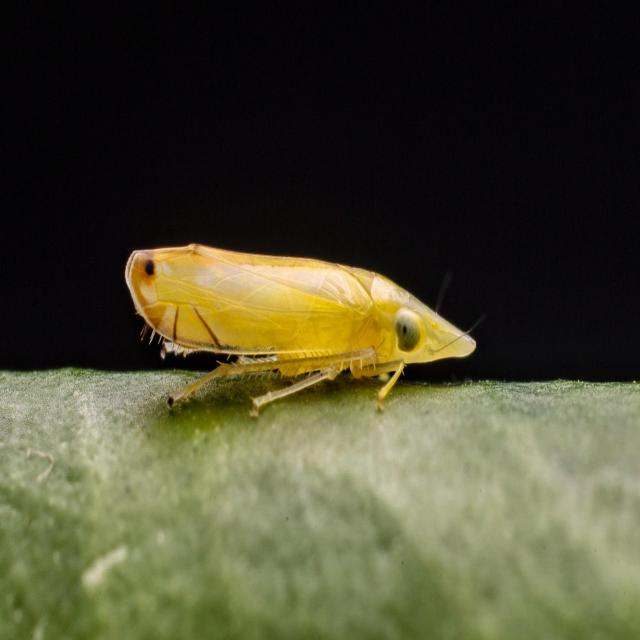Yechan: (118, 232, 483, 417)
